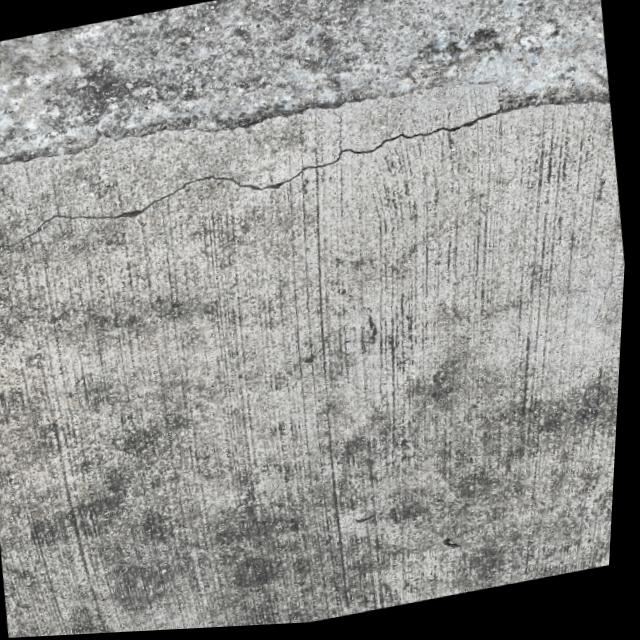Crack: (32, 83, 617, 238)
